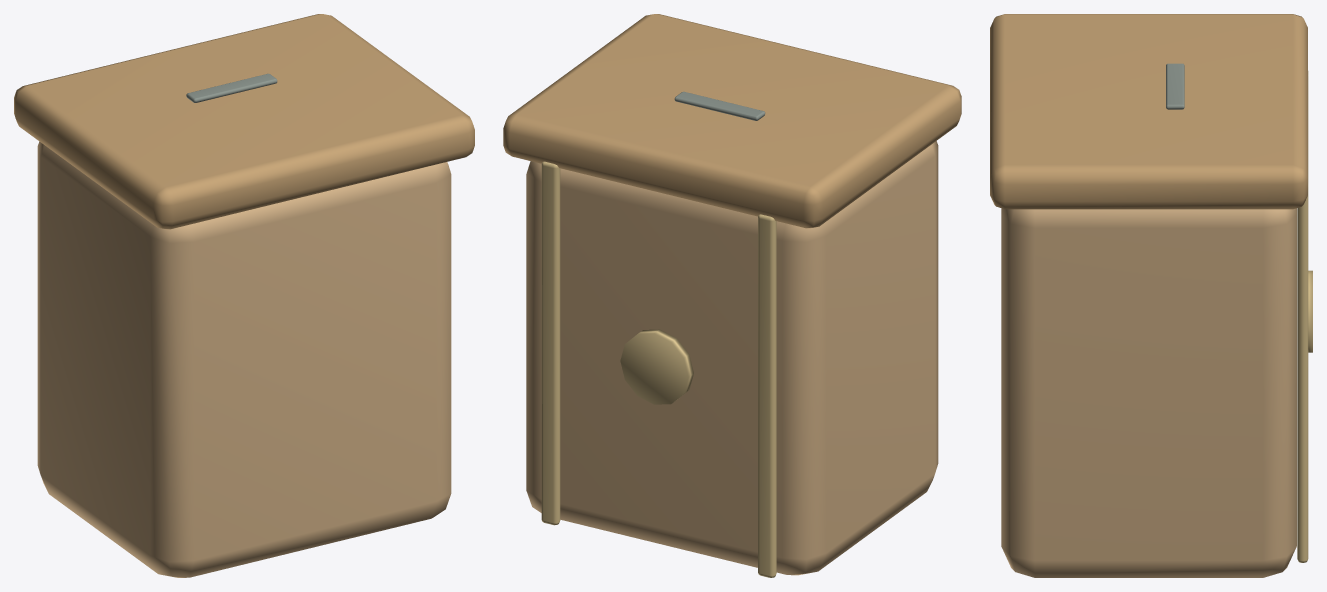
File: donate.glb
3 renders of one model, left to right at view 1: azimuth 30°, elevation 25°; view 2: azimuth 150°, elevation 25°; view 3: azimuth 270°, elevation 25°, orthographic. The views are drawn at different scales.
Size of the model in its own units: 1.03 by 1.27 by 0.863.
